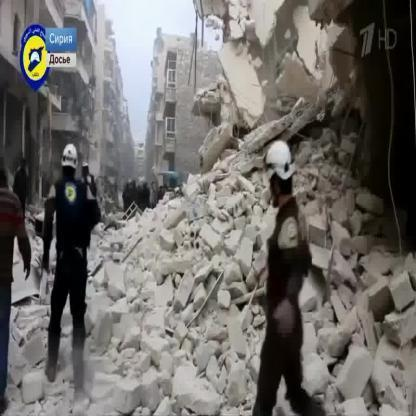helmet: (262, 137, 298, 181), (62, 140, 79, 172)
